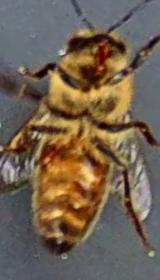varroa_mite: (33, 140, 72, 172)
